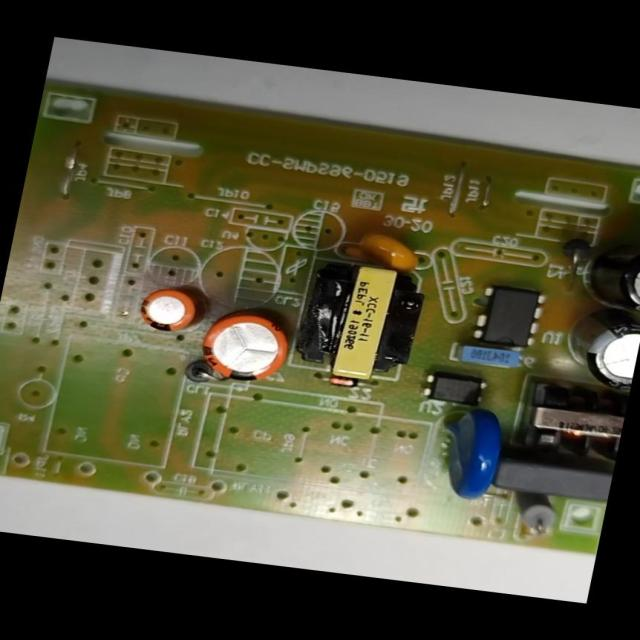Cap1: (192, 307, 298, 390)
Cap2: (131, 284, 205, 337)
Cap3: (556, 306, 639, 394)
Cap4: (583, 239, 639, 317)
MOSFET: (467, 281, 549, 351)
Mov: (421, 403, 511, 506)
Resistor: (506, 494, 566, 540)
Transformer: (290, 258, 432, 385), (510, 376, 629, 471)
